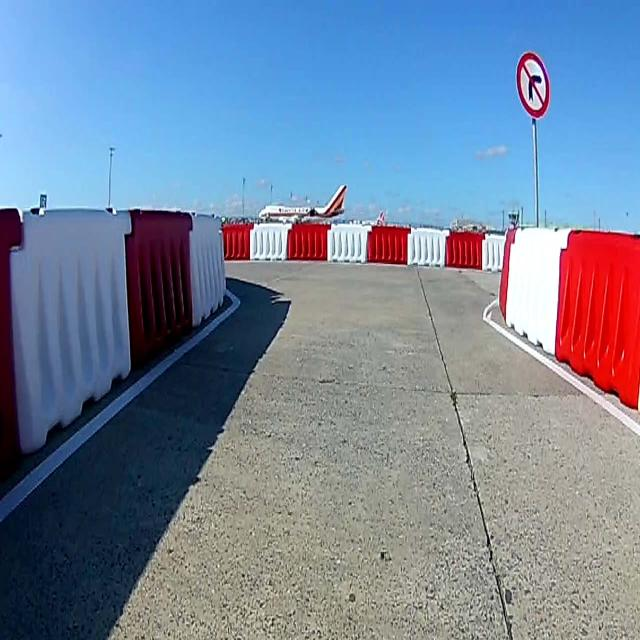sagadonulmez: (517, 52, 552, 116)
